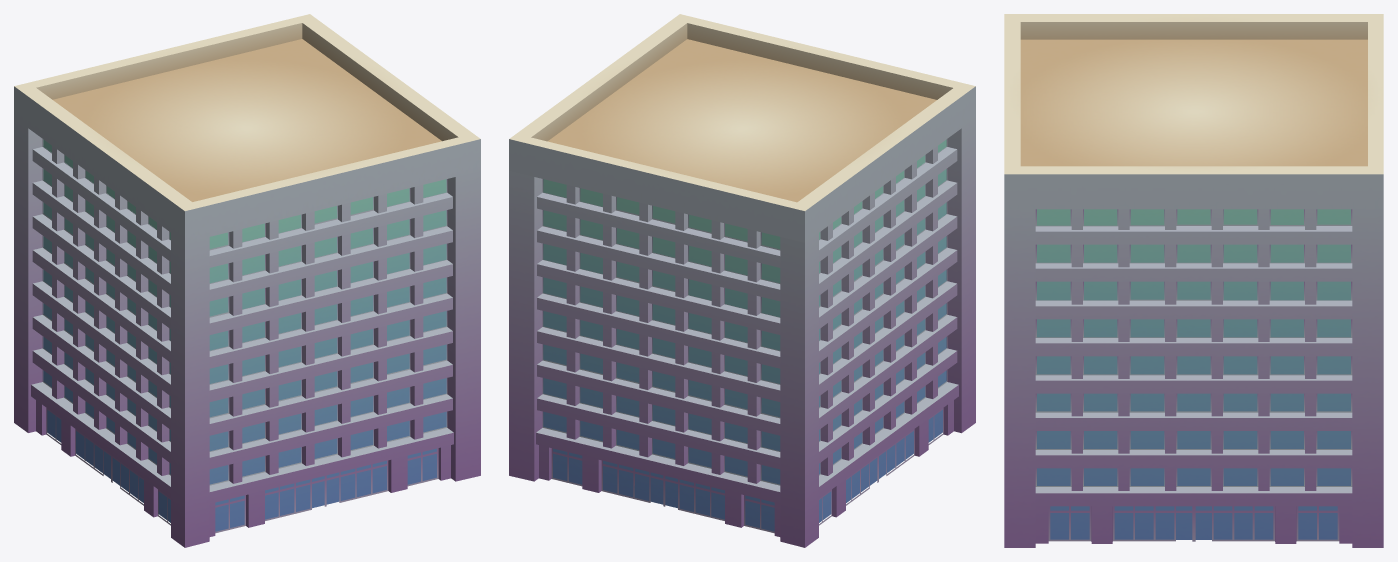
3 renders of one model, left to right at view 1: azimuth 30°, elevation 25°; view 2: azimuth 150°, elevation 25°; view 3: azimuth 270°, elevation 25°, orthographic. The views are drawn at different scales.
Parts seen in each view (by area): view 1: SM_9F_03; view 2: SM_9F_03; view 3: SM_9F_03.
Part boxes in pixels (box(x1,y1,x2,y2)): SM_9F_03: box(14, 14, 480, 547); SM_9F_03: box(509, 14, 975, 547); SM_9F_03: box(1004, 14, 1383, 547).
Size of the model in its own units: 28.05 by 28.05 by 30.51.
